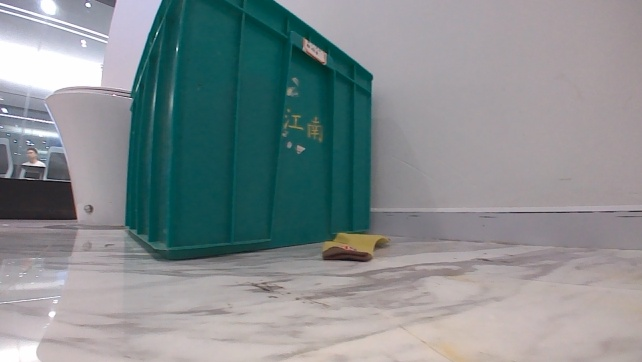socks: (318, 228, 391, 263)
toilet: (42, 81, 135, 230)
